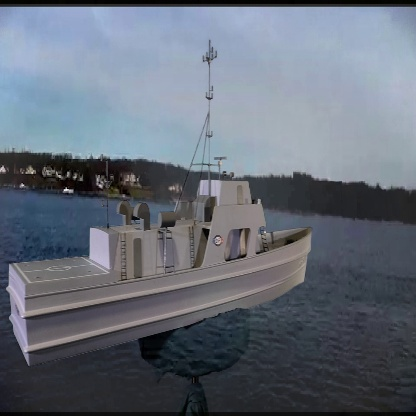YP689: (6, 39, 313, 369)
